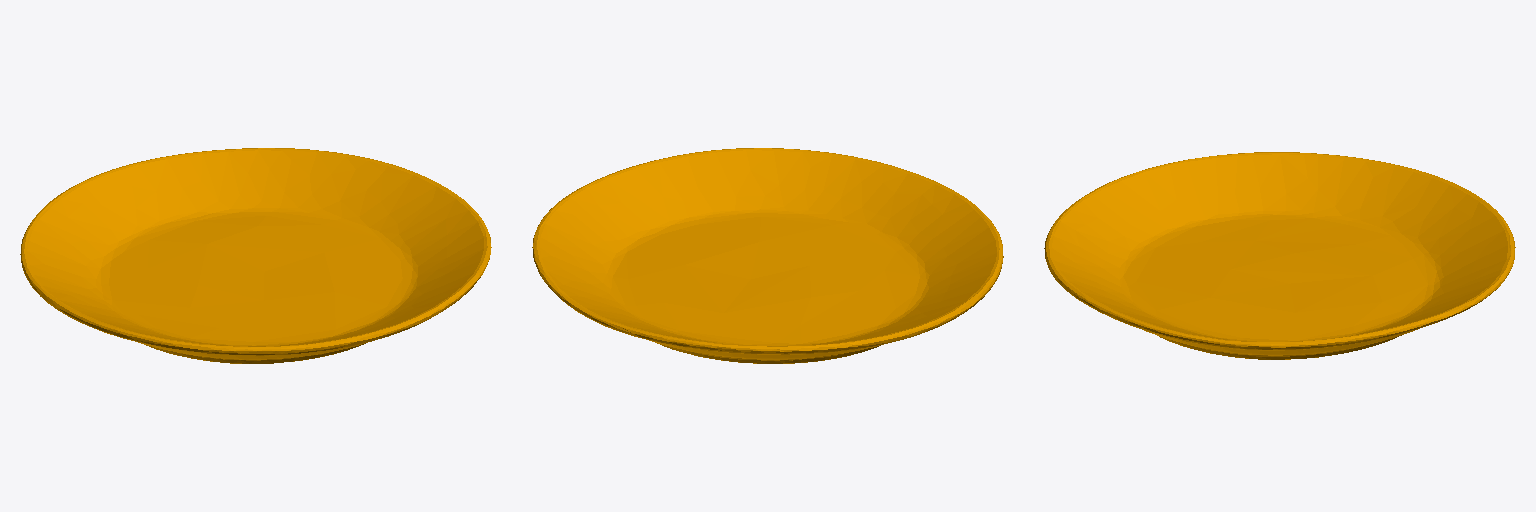
The robot description file, URDF, robot "Round Plate":
<?xml version="1.0" ?>
<!--
Copyright 2020 Google LLC.

This work is licensed under the Creative Commons Attribution 4.0
International License. To view a copy of this license, visit
http://creativecommons.org/licenses/by/4.0/ or send a letter
to Creative Commons, PO Box 1866, Mountain View, CA 94042, USA.
-->
<robot name="Round Plate">
  <link name="link_0">
    <visual name="visual">
      <geometry>
        <mesh filename="meshes/round_plate.obj" scale="1.5 1.5 1.5"/>
      </geometry>
    </visual>
    <collision name="collision_0">
      <geometry>
        <mesh filename="meshes/round_plate.obj" scale="1.5 1.5 1.5"/>
      </geometry>
    </collision>
  </link>
</robot>

--- Facts derived from the render (not from the file) ---
3 views of the same robot in one strip: view 1: azimuth 30°, elevation 25°; view 2: azimuth 150°, elevation 25°; view 3: azimuth 270°, elevation 25° (orthographic).
Model Round Plate with 1 links and 0 joints (none), rooted at link_0, posed every joint at zero.
Visible links, largest first — view 1: link_0; view 2: link_0; view 3: link_0.
Link boxes in pixels (box(x1,y1,x2,y2)): link_0: box(20, 148, 491, 363); link_0: box(532, 148, 1003, 363); link_0: box(1044, 152, 1515, 359).
Bounding box of the posed robot: 0.3329 × 0.3328 × 0.0426 m (x, y, z).
1 mesh visuals loaded from 1 distinct referenced files (1 OBJ).